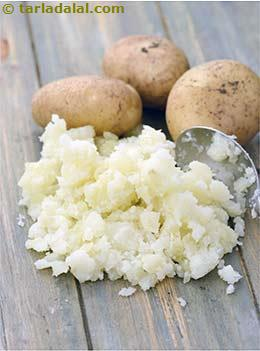boiled potatoes: (169, 60, 255, 148), (31, 78, 140, 128), (105, 37, 183, 89)
